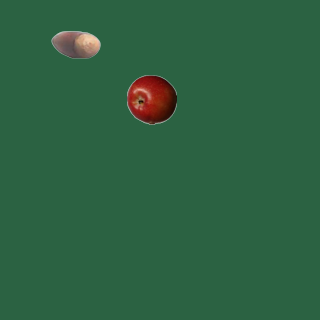Apple Braeburn: (126, 74, 176, 124)
Hazelnut: (50, 19, 100, 69)
